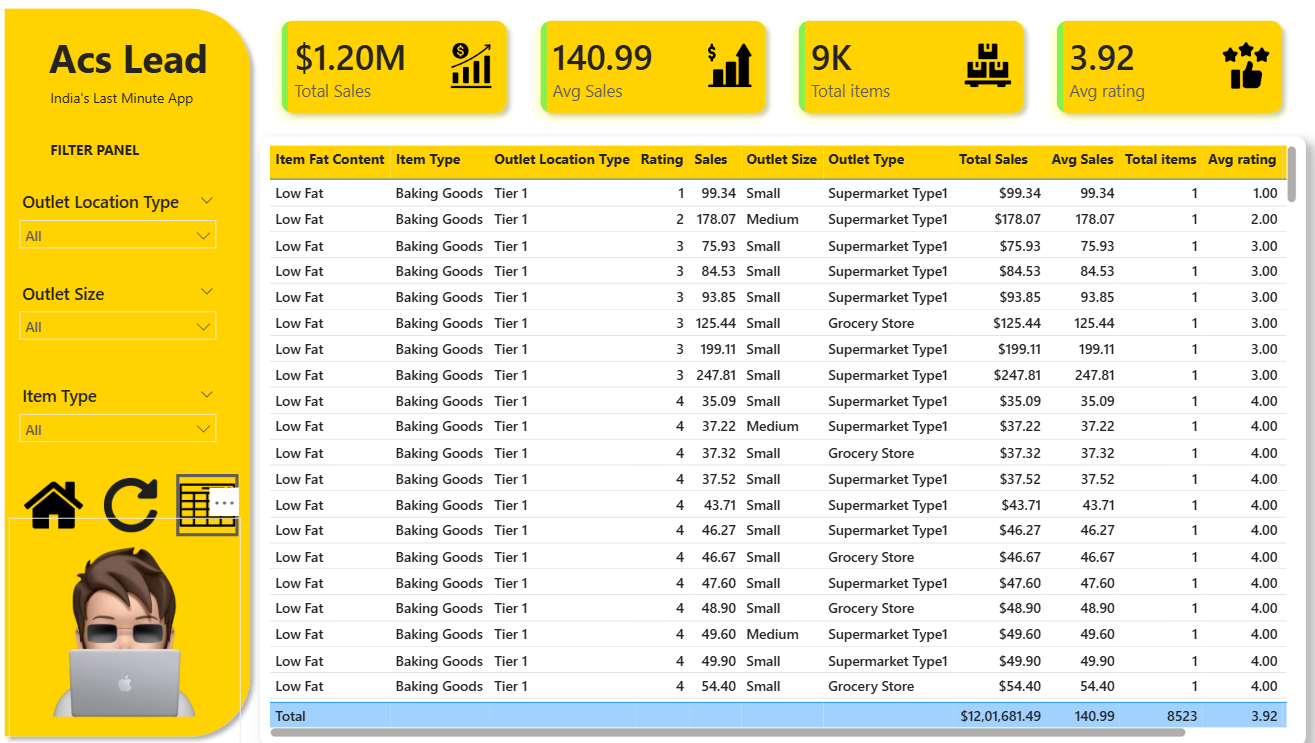

The page's visual inventory and layout, read from the dashboard file:
{"tool":"powerbi","page":{"name":"Table-View","canvas":[1280,720],"ordinal":1},"visuals":[{"type":"shape","box":[0,0,255,720],"z":0},{"type":"slicer","fields":{"Values":["BlinkIT Grocery Data.Outlet Location Type"]},"box":[13.3,180,210,71.7],"z":0,"group":"g1"},{"type":"textbox","box":[46.5,26.9,188,68.6],"z":1},{"type":"textbox","box":[47.8,80.4,148.2,31.6],"z":2},{"type":"group","id":"g1","title":"Group 2","box":[13.3,180,210,258.3],"z":3},{"type":"textbox","box":[48.3,131.7,106.7,48.3],"z":4},{"type":"actionButton","box":[26.7,458.3,60,60],"z":5},{"type":"actionButton","box":[101.7,458.3,60,60],"z":6},{"type":"actionButton","box":[175,458.3,60,60],"z":7},{"type":"cardVisual","fields":{"Data":["BlinkIT Grocery Data.Total Sales","BlinkIT Grocery Data.Avg Sales","BlinkIT Grocery Data.Total items","BlinkIT Grocery Data.Avg rating"]},"box":[255,0,1008.3,131.7],"z":8},{"type":"tableEx","fields":{"Values":["BlinkIT Grocery Data.Item Fat Content","BlinkIT Grocery Data.Item Type","BlinkIT Grocery Data.Outlet Location Type","BlinkIT Grocery Data.Rating","BlinkIT Grocery Data.Sales","BlinkIT Grocery Data.Outlet Size","BlinkIT Grocery Data.Outlet Type","BlinkIT Grocery Data.Total Sales","BlinkIT Grocery Data.Avg Sales","BlinkIT Grocery Data.Total items","BlinkIT Grocery Data.Avg rating","BlinkIT Grocery Data.Outlet Identifier"]},"box":[255,132,1008,588],"z":9},{"type":"image","box":[13.3,500,223.3,220],"z":10},{"type":"slicer","fields":{"Values":["BlinkIT Grocery Data.Outlet Size"]},"box":[13.3,268.3,210,71.7],"z":1000,"group":"g1"},{"type":"slicer","fields":{"Values":["BlinkIT Grocery Data.Item Type"]},"box":[13.3,366.7,210,71.7],"z":2000,"group":"g1"}]}

Visuals, with their boxes in screenshot pixels (x1, y1, x2, y2), scaled from the page's 1280x720 canvas onto the 1315x743 screenshot:
shape: bbox=[0, 0, 262, 742]
slicer - BlinkIT Grocery Data.Outlet Location Type: bbox=[14, 186, 229, 260]
textbox: bbox=[48, 28, 241, 99]
textbox: bbox=[49, 83, 201, 116]
"Group 2" group: bbox=[14, 186, 229, 452]
textbox: bbox=[50, 136, 159, 186]
actionButton: bbox=[27, 473, 89, 535]
actionButton: bbox=[104, 473, 166, 535]
actionButton: bbox=[180, 473, 241, 535]
cardVisual - BlinkIT Grocery Data.Total Sales x BlinkIT Grocery Data.Avg Sales: bbox=[262, 0, 1298, 136]
tableEx - BlinkIT Grocery Data.Item Fat Content x BlinkIT Grocery Data.Item Type: bbox=[262, 136, 1298, 742]
image: bbox=[14, 516, 243, 742]
slicer - BlinkIT Grocery Data.Outlet Size: bbox=[14, 277, 229, 351]
slicer - BlinkIT Grocery Data.Item Type: bbox=[14, 378, 229, 452]
